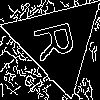R: (32, 16, 85, 63)
